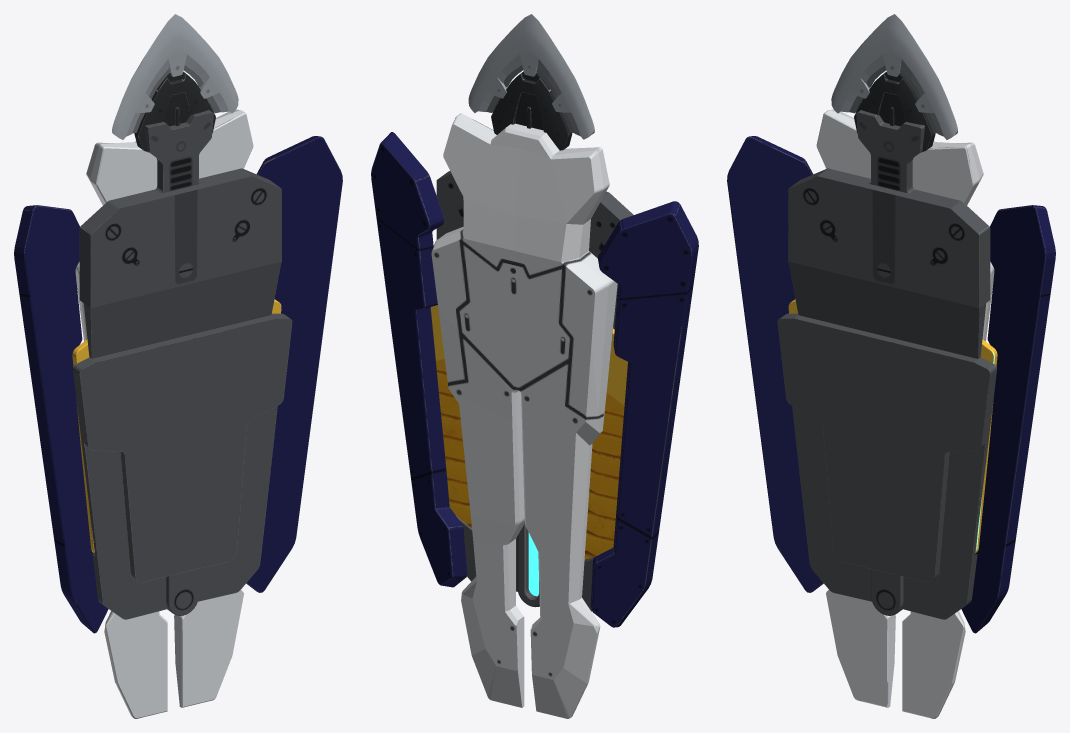
The model's file is Shield_v0.1.fbx.
The picture shows the model from 3 angles, left to right: view 1: azimuth 30°, elevation 25°; view 2: azimuth 150°, elevation 25°; view 3: azimuth 330°, elevation 25°; orthographic projection.
Visible parts, largest first — view 1: Shield; view 2: Shield; view 3: Shield.
Boxes of the visible parts, <box> form: Shield: <box>14,14,342,718</box>; Shield: <box>371,14,698,718</box>; Shield: <box>727,14,1055,718</box>.
Bounding box in the file's own units: 0.6694 × 0.0523 × 0.3249.
